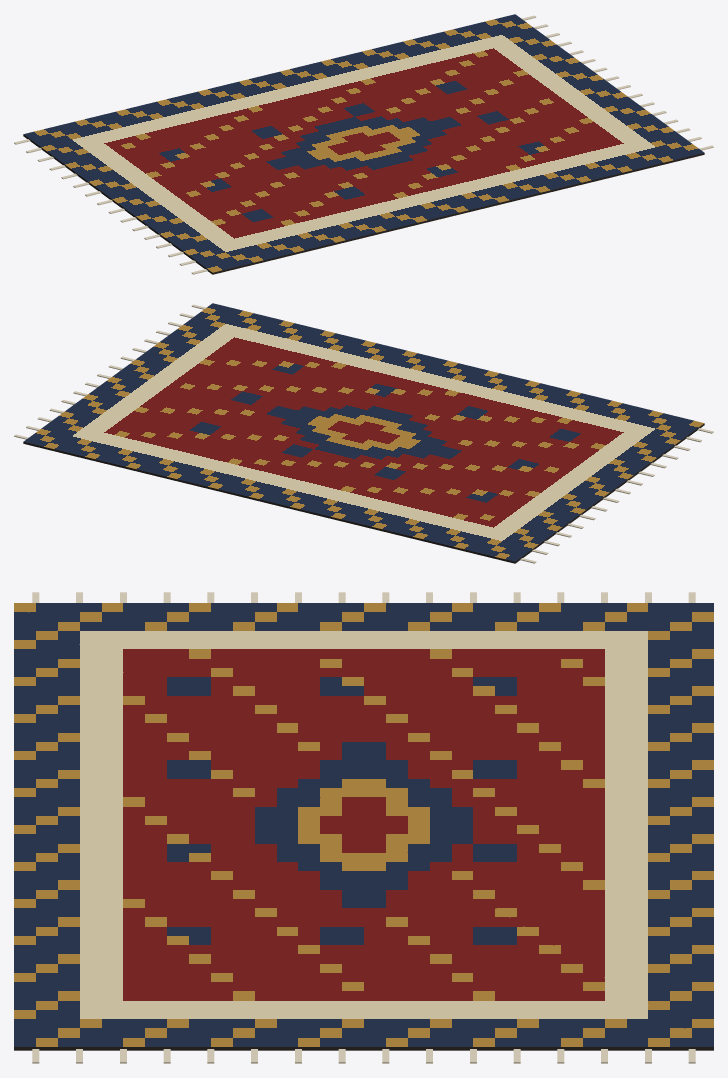
The model's file is rug_persian.glb.
3 renders of one model, top to bottom at view 1: azimuth 30°, elevation 25°; view 2: azimuth 150°, elevation 25°; view 3: azimuth 270°, elevation 25°, orthographic. The views are drawn at different scales.
Parts seen in each view (by area): view 1: Rug_persian; view 2: Rug_persian; view 3: Rug_persian.
Part boxes in pixels (left/top/right/bottom): Rug_persian: left=14, top=14, right=713, bottom=274; Rug_persian: left=14, top=303, right=713, bottom=563; Rug_persian: left=14, top=592, right=713, bottom=1063.
Bounding box in the file's own units: 2.54 × 0.0095 × 1.6.
3 materials, 1 textured.
